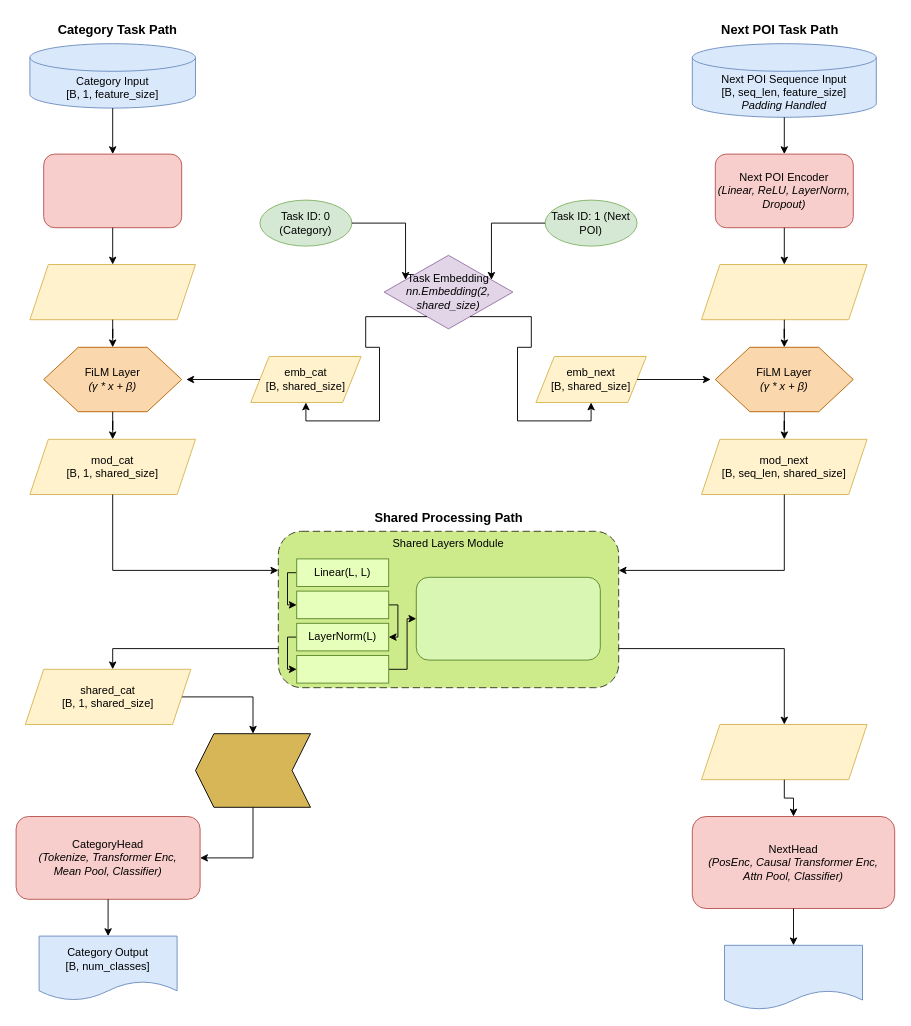
This 911x1026 diagram has some shape labels left out. Here are the shapes that lost their labels. From the top down, the centre of each, then its label:
(112,190): Category Encoder (Linear, ReLU, LayerNorm, Dropout)
(112,292): enc_cat [B, 1, shared_size]
(784,292): enc_next [B, seq_len, shared_size]
(342,604): LeakyReLU
(507,618): ResidualBlock (LN, Linear, Act, DO + Res) x (NumBlocks - 1)
(342,669): Dropout
(252,770): squeeze(1) [B,shared_size]
(784,752): shared_next [B, seq_len, shared_size]
(793,977): Next POI Output [B, num_classes]
